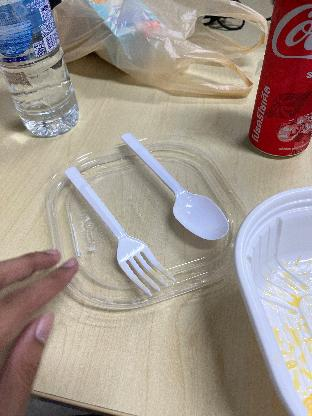Others: (60, 164, 176, 296), (118, 128, 234, 242)
Plastic Bottle: (0, 0, 82, 138)
